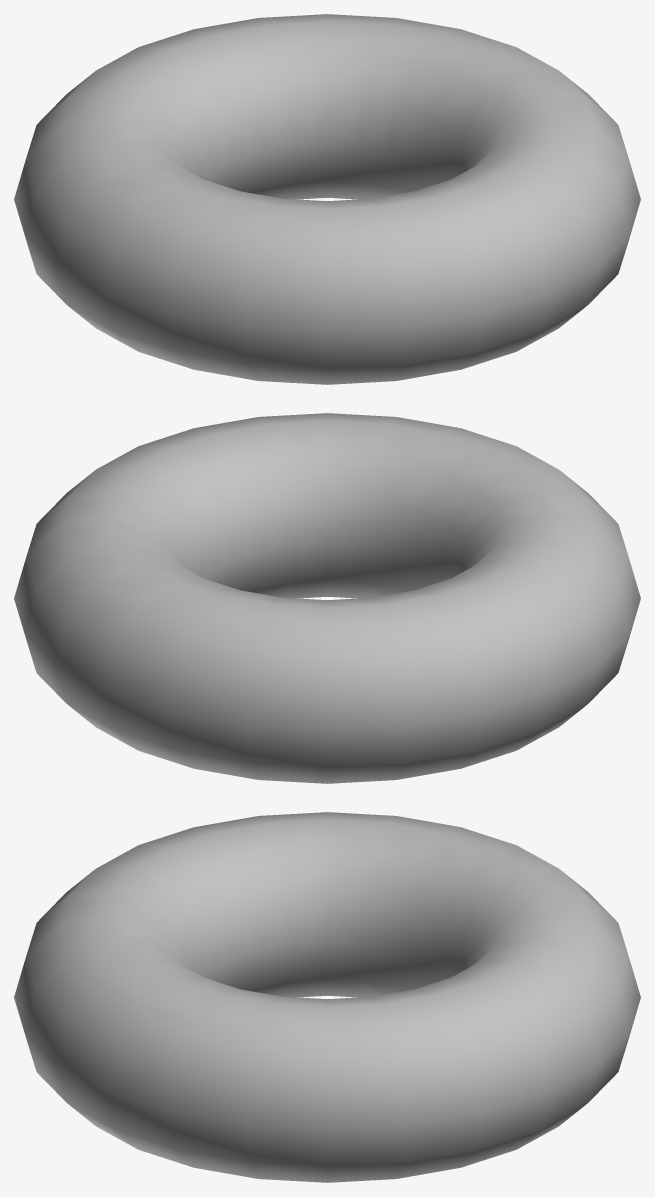
Rendered from INSIDE.fbx.
3 views of the same model, one above another, from view 1: azimuth 30°, elevation 25°; view 2: azimuth 150°, elevation 25°; view 3: azimuth 270°, elevation 25° (orthographic).
Parts seen in each view (by area): view 1: FLOAT_INSIDE; view 2: FLOAT_INSIDE; view 3: FLOAT_INSIDE.
Part boxes in pixels (x1,y1,x2,y2): FLOAT_INSIDE: (14, 14, 640, 384); FLOAT_INSIDE: (14, 413, 640, 783); FLOAT_INSIDE: (14, 812, 640, 1182).
Bounding box in the file's own units: 170 × 50 × 170.
